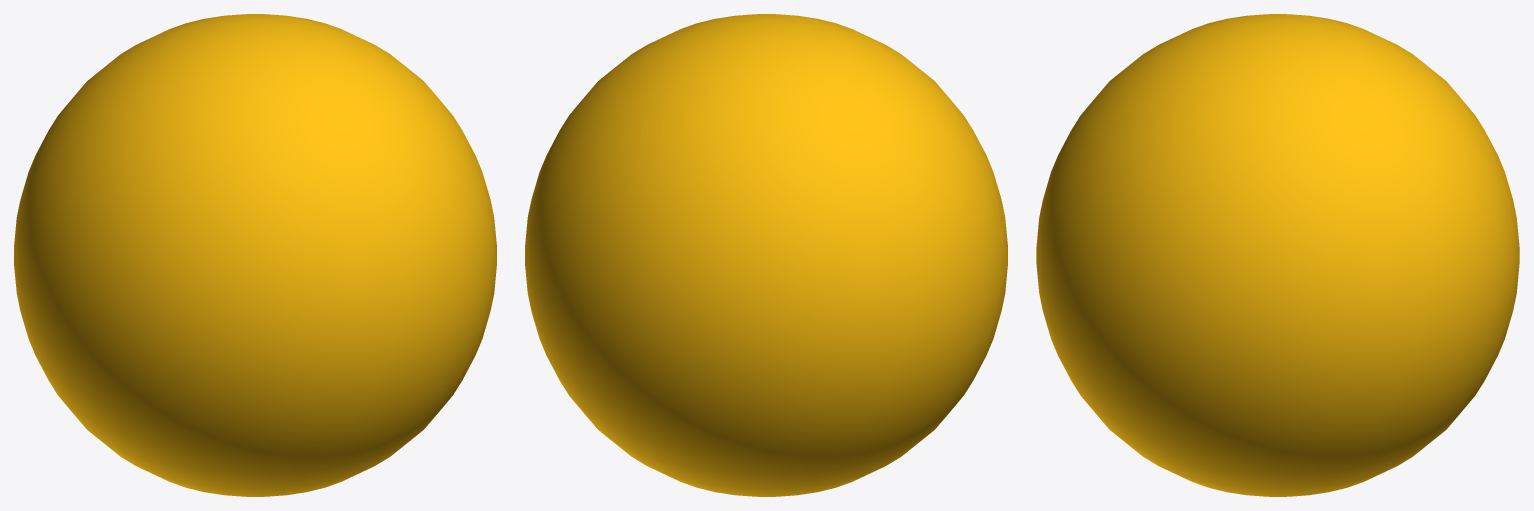
3 views of the same model, side by side, from view 1: azimuth 30°, elevation 25°; view 2: azimuth 150°, elevation 25°; view 3: azimuth 270°, elevation 25° (orthographic).
Visible parts, largest first — view 1: Part 1; view 2: Part 1; view 3: Part 1.
Boxes of the visible parts, x1=… form: Part 1: x1=14, y1=14, x2=496, y2=496; Part 1: x1=525, y1=14, x2=1007, y2=496; Part 1: x1=1036, y1=14, x2=1519, y2=496.
Size of the model in its own units: 0.1521 by 0.1524 by 0.1518.
